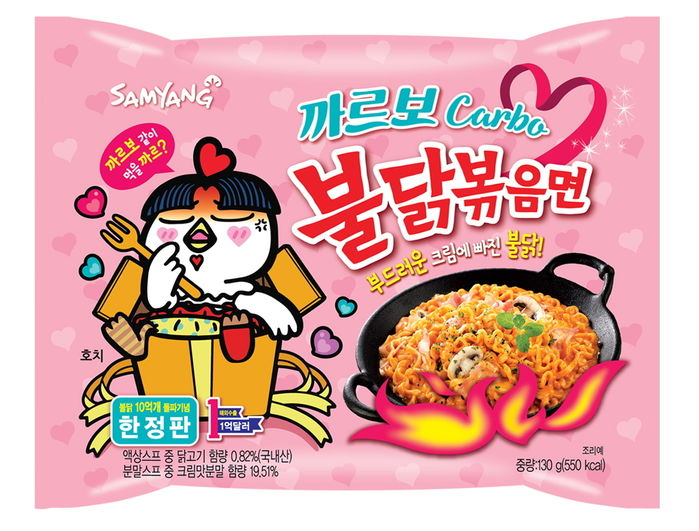Snack: (17, 11, 671, 516)
